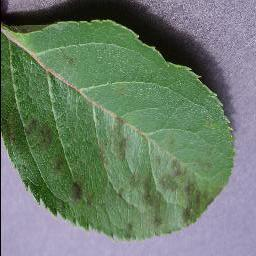apple healthy: (0, 16, 236, 242)
